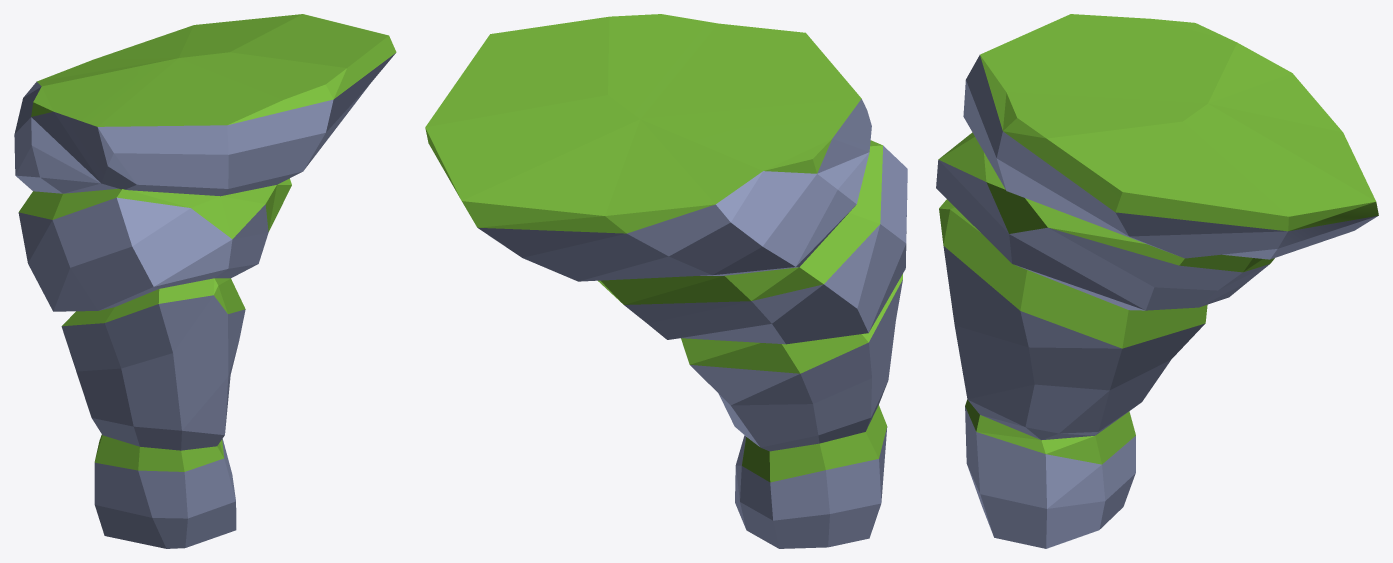
Rendered from Rock_34.fbx.
The picture shows the model from 3 angles, left to right: view 1: azimuth 30°, elevation 25°; view 2: azimuth 150°, elevation 25°; view 3: azimuth 270°, elevation 25°; orthographic projection. The views are drawn at different scales.
Parts seen in each view (by area): view 1: Rock_34; view 2: Rock_34; view 3: Rock_34.
Part boxes in pixels (box(x1,y1,x2,y2)): Rock_34: box(14, 14, 396, 548); Rock_34: box(425, 14, 907, 548); Rock_34: box(936, 14, 1378, 548).
Size of the model in its own units: 7.89 by 8.88 by 7.49.
